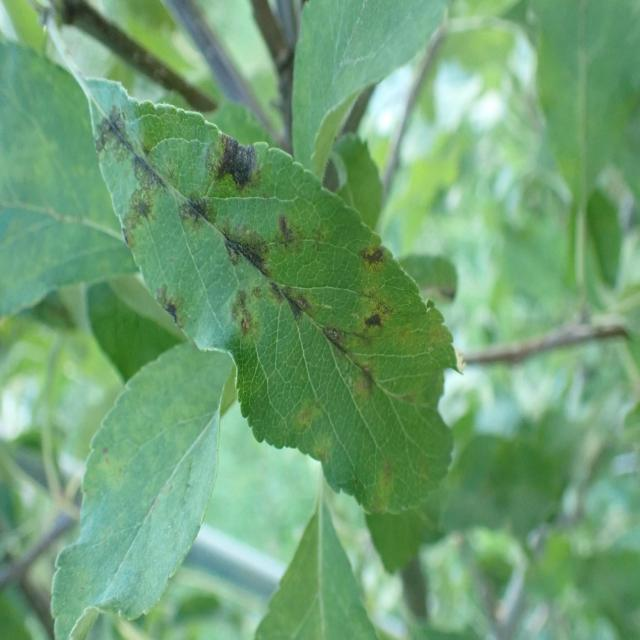scab: (85, 66, 455, 518), (78, 425, 204, 626)
